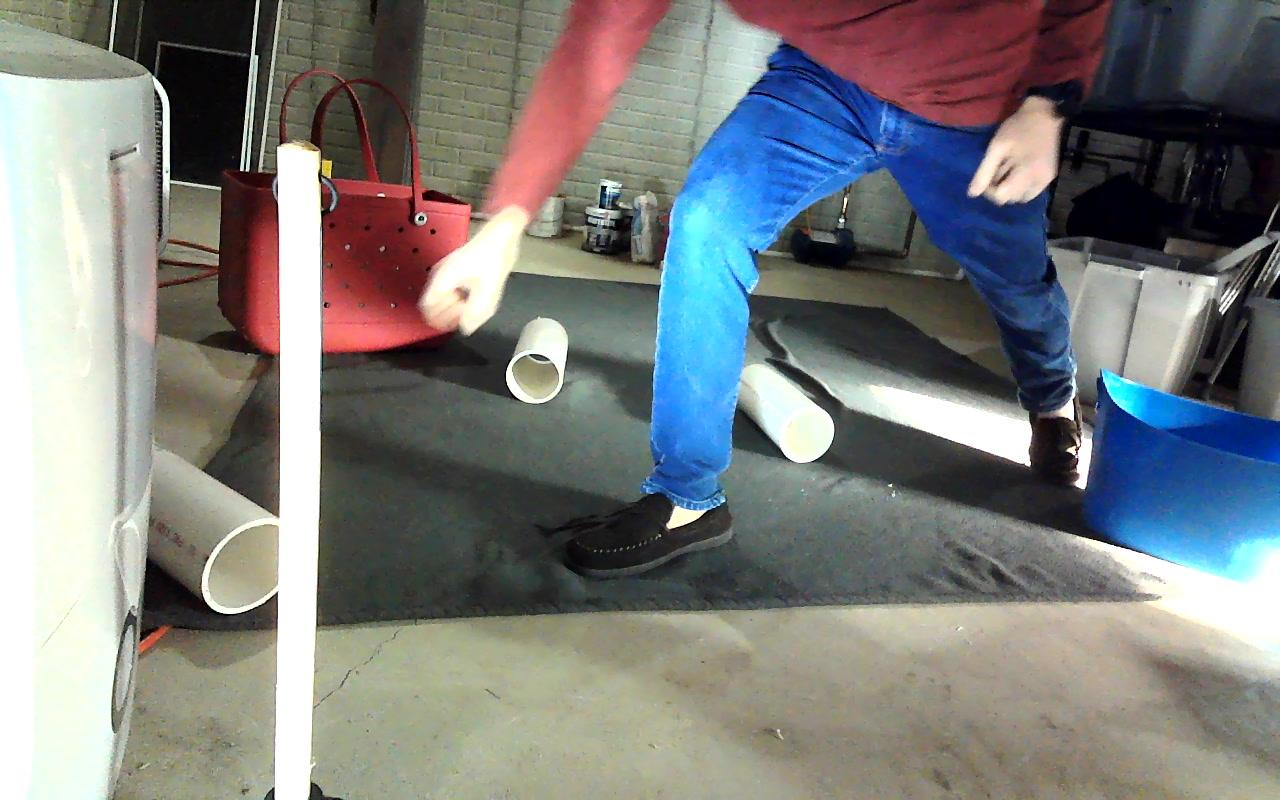coral: (142, 447, 280, 612), (737, 361, 833, 462), (505, 316, 568, 403)
